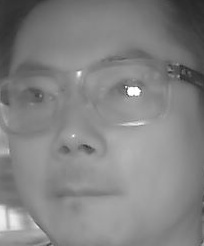eye: (18, 86, 54, 106)
glass: (79, 55, 171, 126), (1, 67, 61, 131)
mouth: (49, 179, 117, 213)
